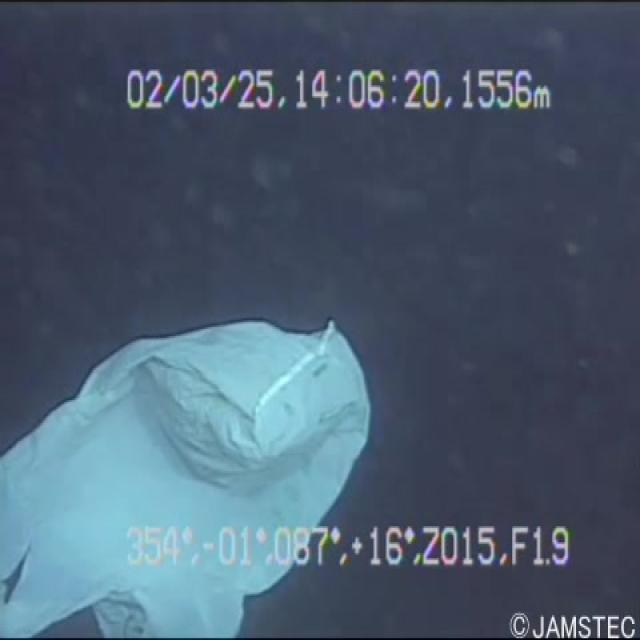plastic: (0, 302, 387, 638)
